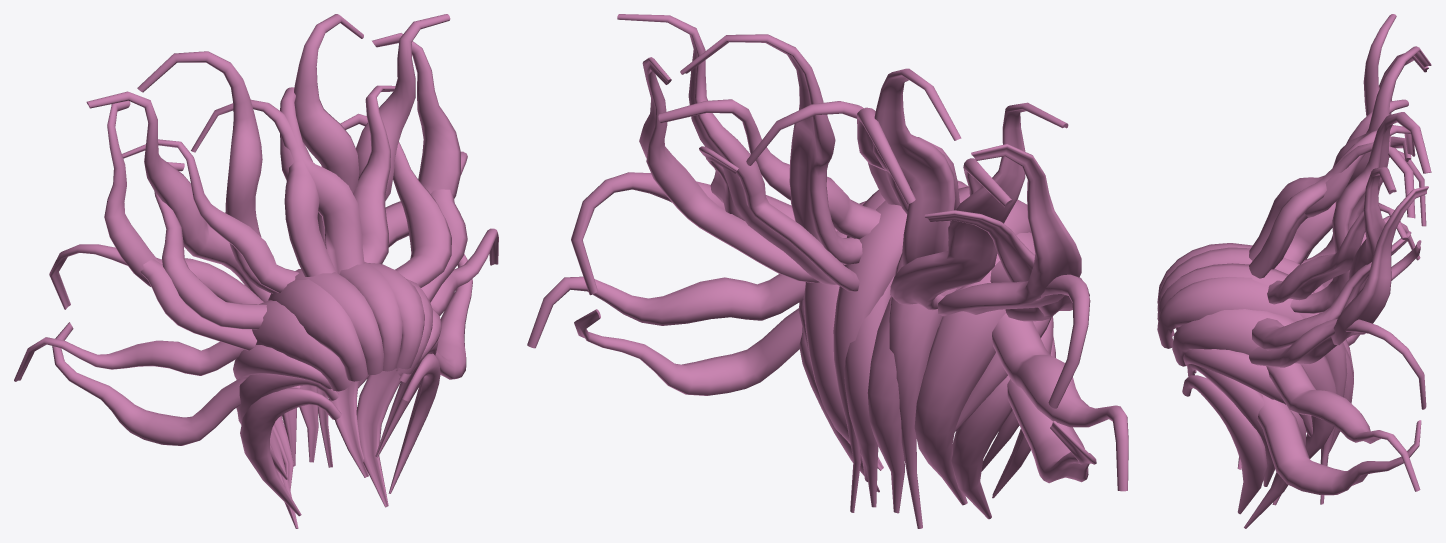
3 renders of one model, left to right at view 1: azimuth 30°, elevation 25°; view 2: azimuth 150°, elevation 25°; view 3: azimuth 270°, elevation 25°, orthographic. The views are drawn at different scales.
Visible parts, largest first — view 1: hair_person9; view 2: hair_person9; view 3: hair_person9.
Part boxes in pixels (x1,y1,x2,y2): hair_person9: (14, 14, 498, 528); hair_person9: (527, 14, 1128, 528); hair_person9: (1157, 14, 1431, 528).
Bounding box in the file's own units: 5.77 × 4.82 × 2.84.
